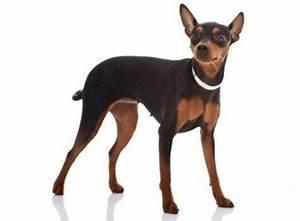dog: (51, 2, 245, 214)
